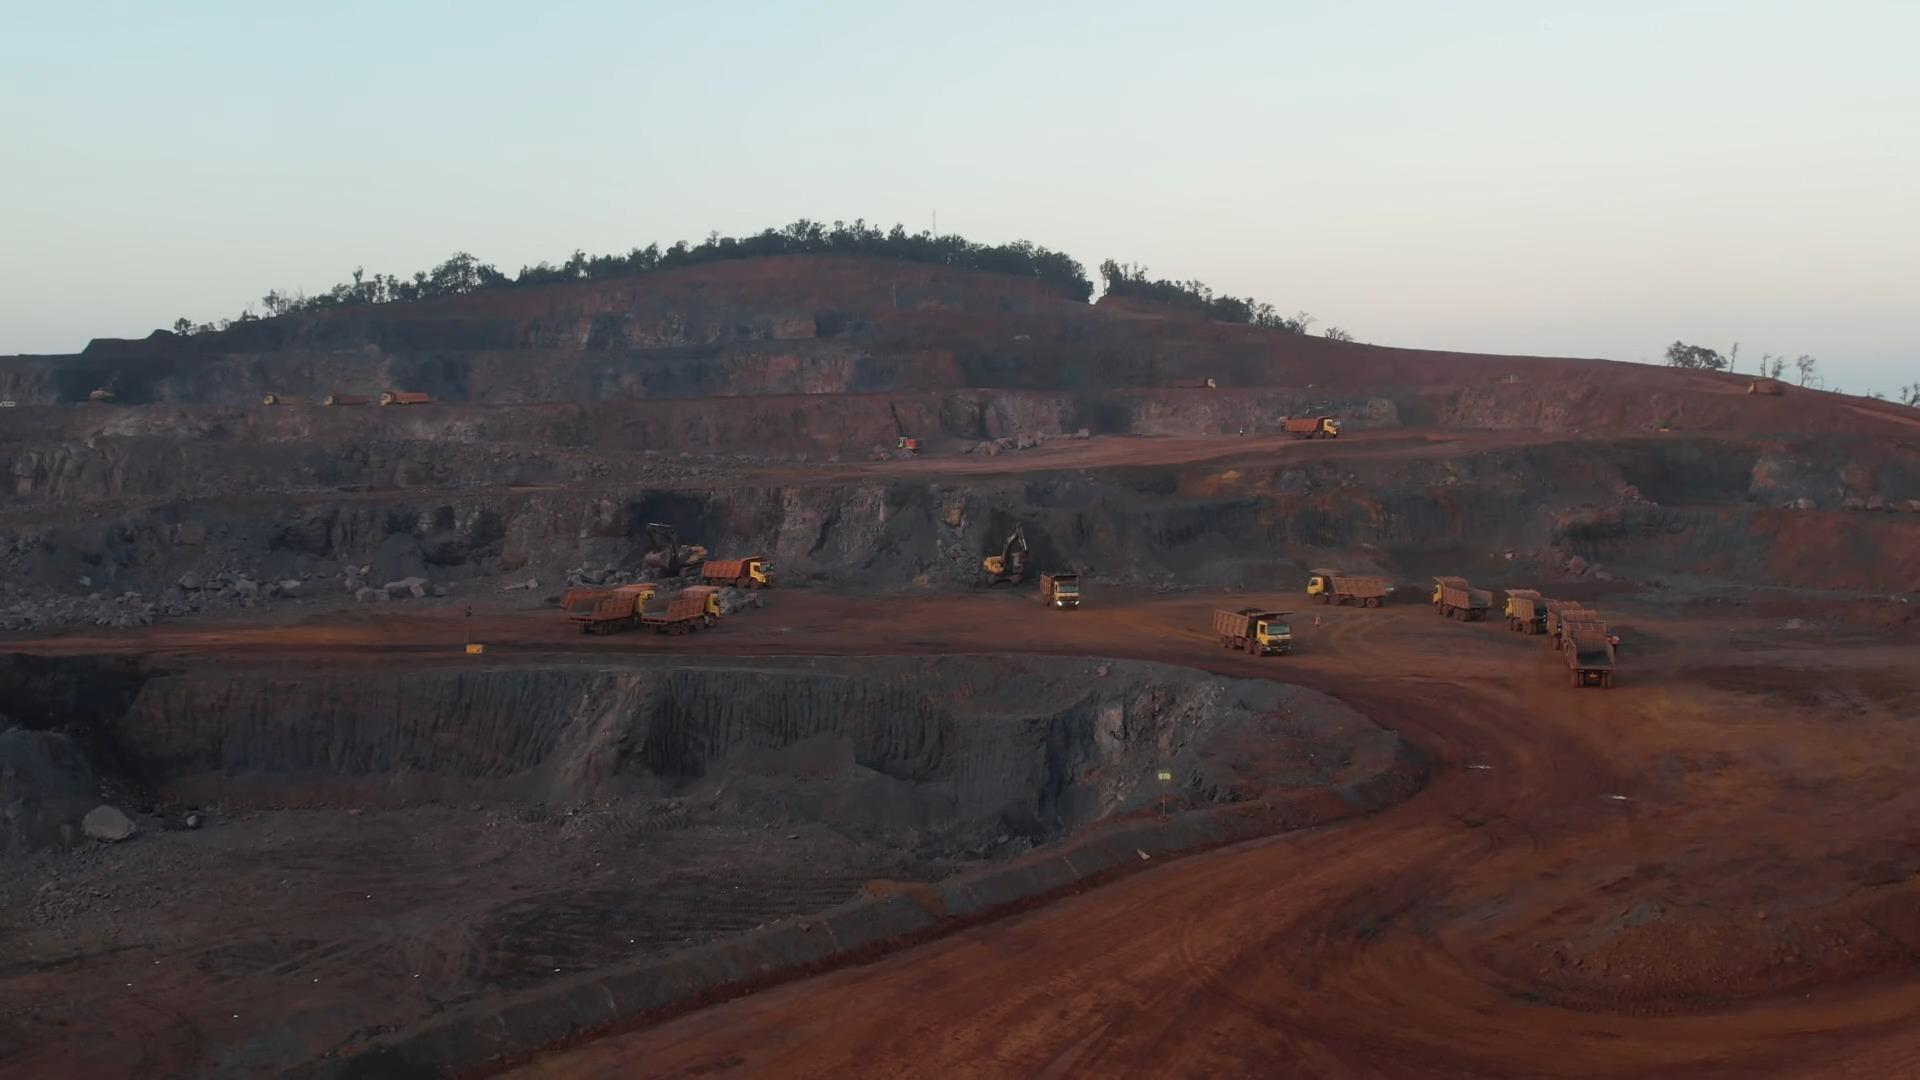excavator: (981, 522, 1033, 588), (643, 521, 701, 577)
